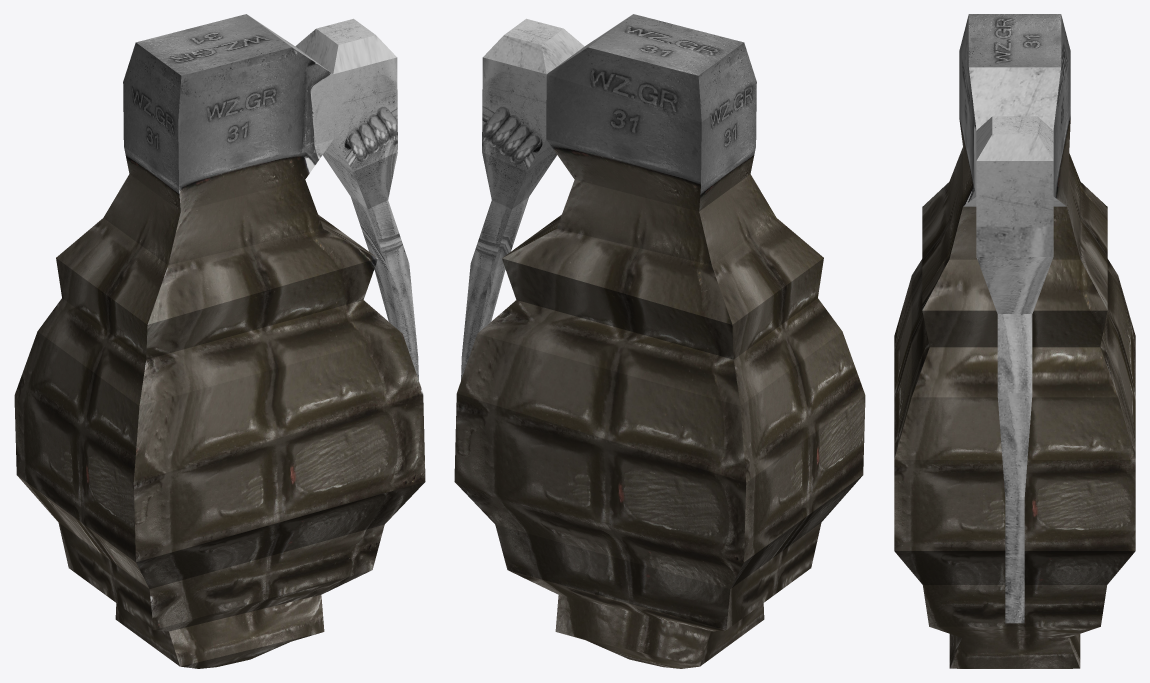
The model's file is granate.fbx.
3 views of the same model, side by side, from view 1: azimuth 30°, elevation 25°; view 2: azimuth 150°, elevation 25°; view 3: azimuth 270°, elevation 25° (orthographic).
Visible parts, largest first — view 1: Cube; view 2: Cube; view 3: Cube.
Part boxes in pixels (<box>): Cube: <box>14,14,425,668</box>; Cube: <box>454,14,865,668</box>; Cube: <box>894,14,1135,668</box>.
Bounding box in the file's own units: 195 × 330 × 117.
1 material, 1 textured.
